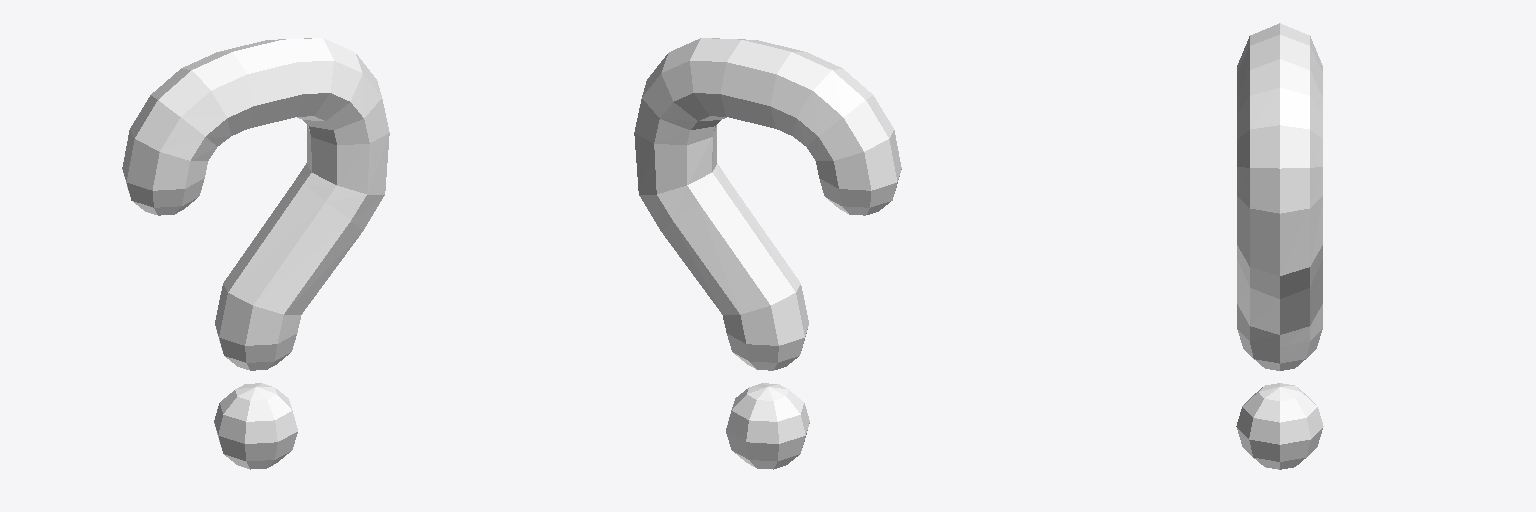
Rendered from question.obj.
3 views of the same model, side by side, from view 1: azimuth 30°, elevation 25°; view 2: azimuth 150°, elevation 25°; view 3: azimuth 270°, elevation 25° (orthographic).
Parts seen in each view (by area): view 1: body; view 2: body; view 3: body.
Part boxes in pixels (left/top/right/bottom): body: left=122, top=38, right=389, bottom=469; body: left=634, top=38, right=901, bottom=469; body: left=1236, top=23, right=1323, bottom=469.
Bounding box in the file's own units: 0.5243 × 0.8123 × 0.1531.